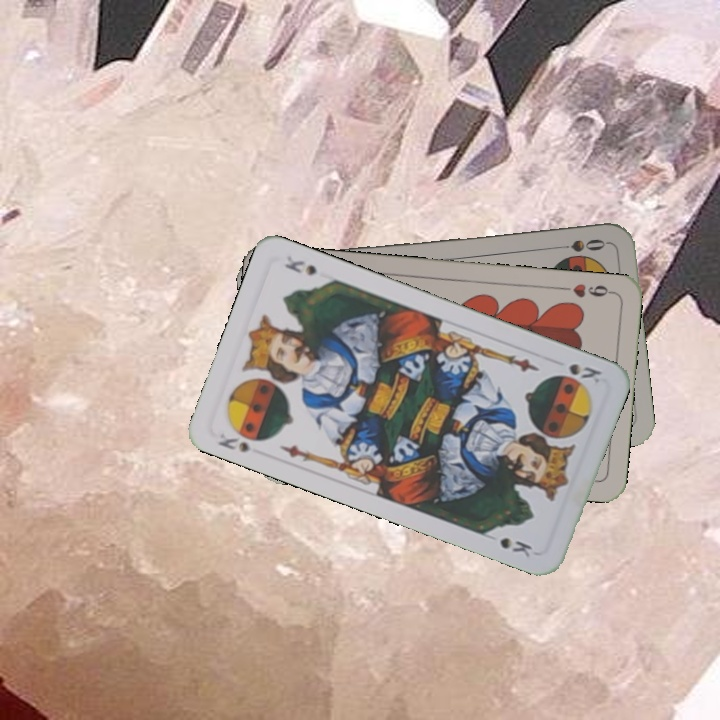H9: (557, 279, 616, 300)
SK: (214, 423, 268, 456), (565, 359, 606, 387)
SO: (550, 234, 609, 255)
